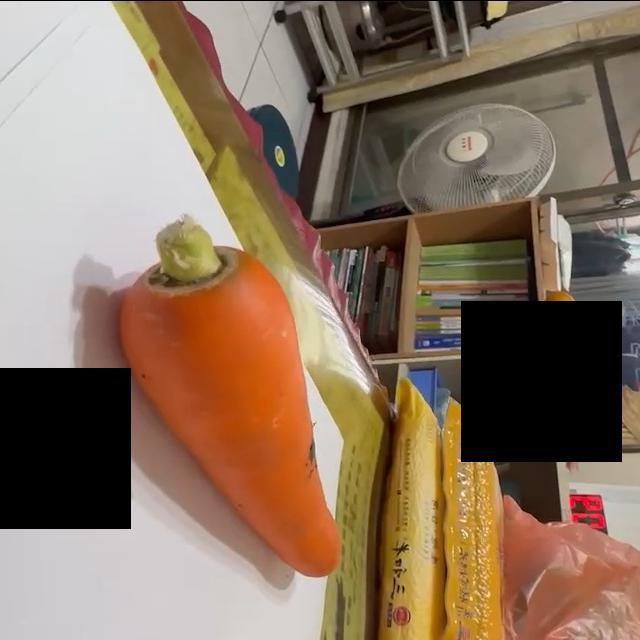carrot: (116, 215, 346, 578)
